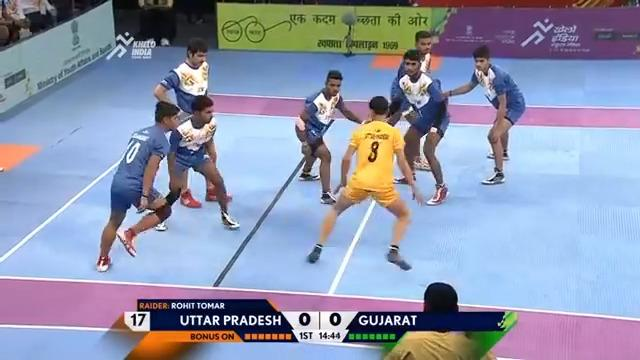Player: (144, 37, 241, 233), (94, 98, 184, 273), (440, 43, 527, 186), (386, 47, 452, 206), (293, 67, 363, 205)
Raider: (305, 93, 423, 273)
referee: (382, 281, 498, 359)
